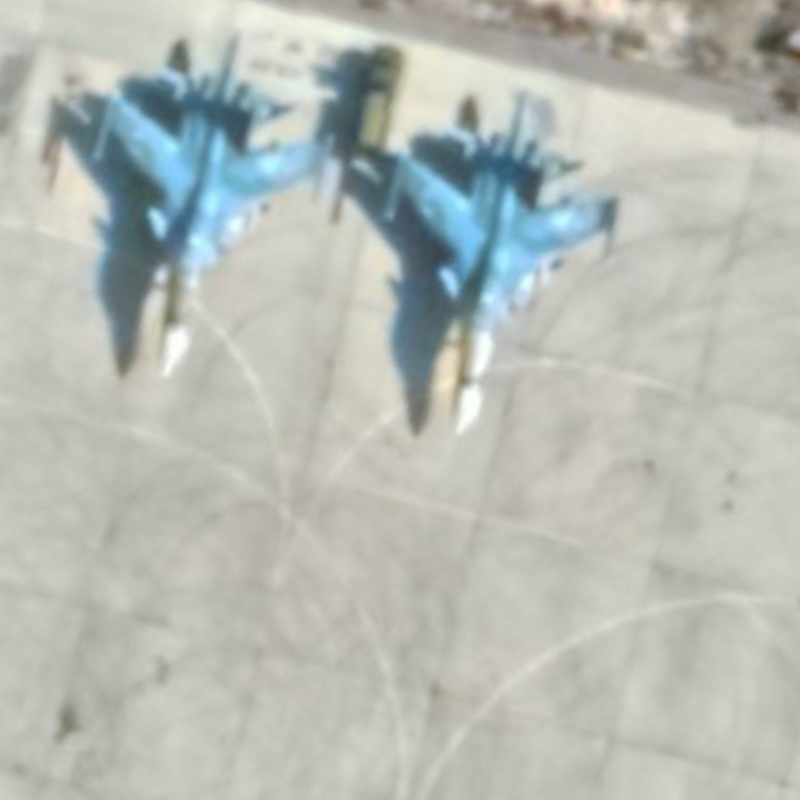A19: (84, 28, 342, 385), (378, 85, 624, 442)
